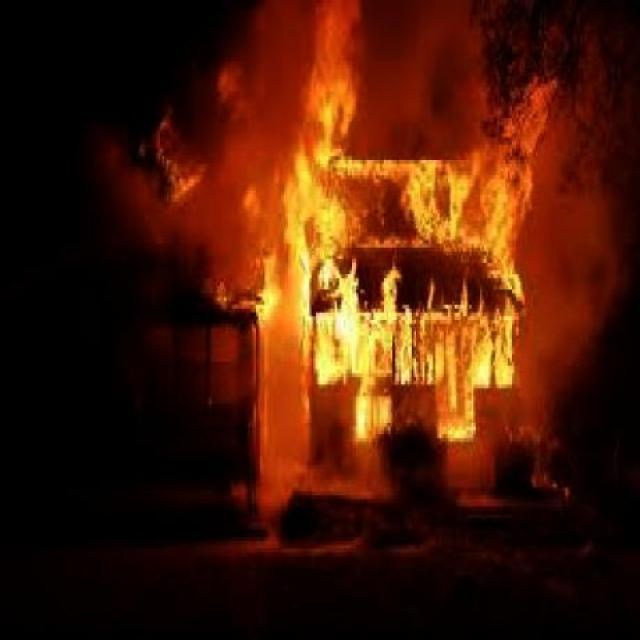Fire: (259, 149, 527, 433), (305, 12, 370, 136), (499, 85, 546, 153)
Smoke: (533, 160, 640, 434), (114, 130, 254, 306), (110, 10, 298, 140), (360, 0, 494, 142)
